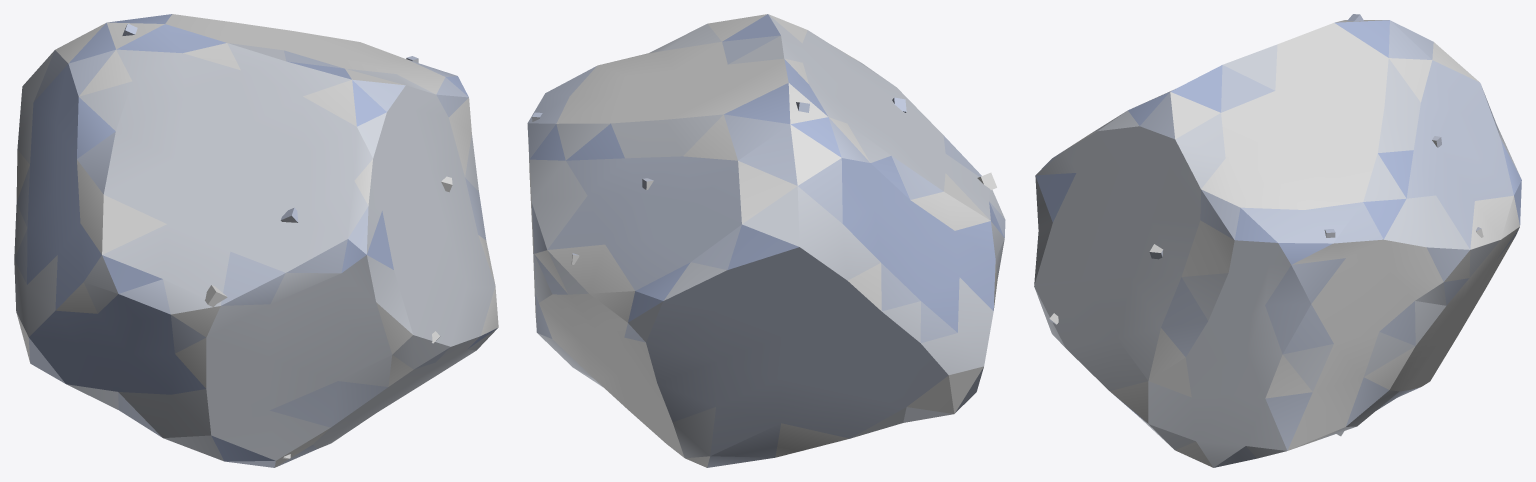
Rendered from sugar_lump.glb.
The picture shows the model from 3 angles, left to right: view 1: azimuth 30°, elevation 25°; view 2: azimuth 150°, elevation 25°; view 3: azimuth 270°, elevation 25°; orthographic projection. The views are drawn at different scales.
Parts seen in each view (by area): view 1: sugar_lump; view 2: sugar_lump; view 3: sugar_lump.
Part boxes in pixels (box(x1,y1,x2,y2)): sugar_lump: box(14, 14, 498, 467); sugar_lump: box(527, 14, 1005, 467); sugar_lump: box(1034, 14, 1521, 467).
Size of the model in its own units: 1 by 0.8575 by 0.9951.
